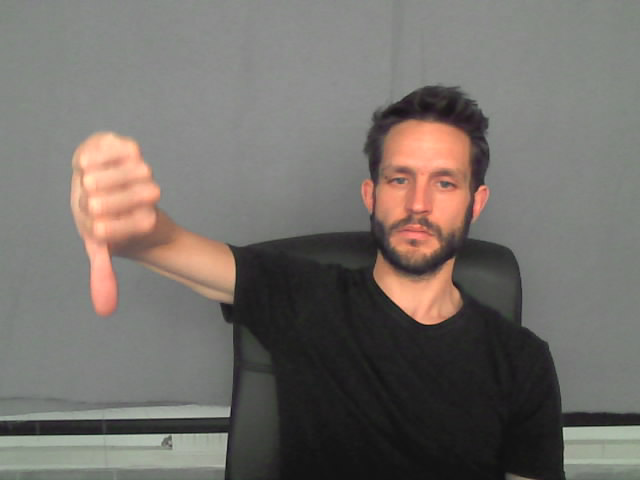thumbsdown: (70, 131, 162, 317)
